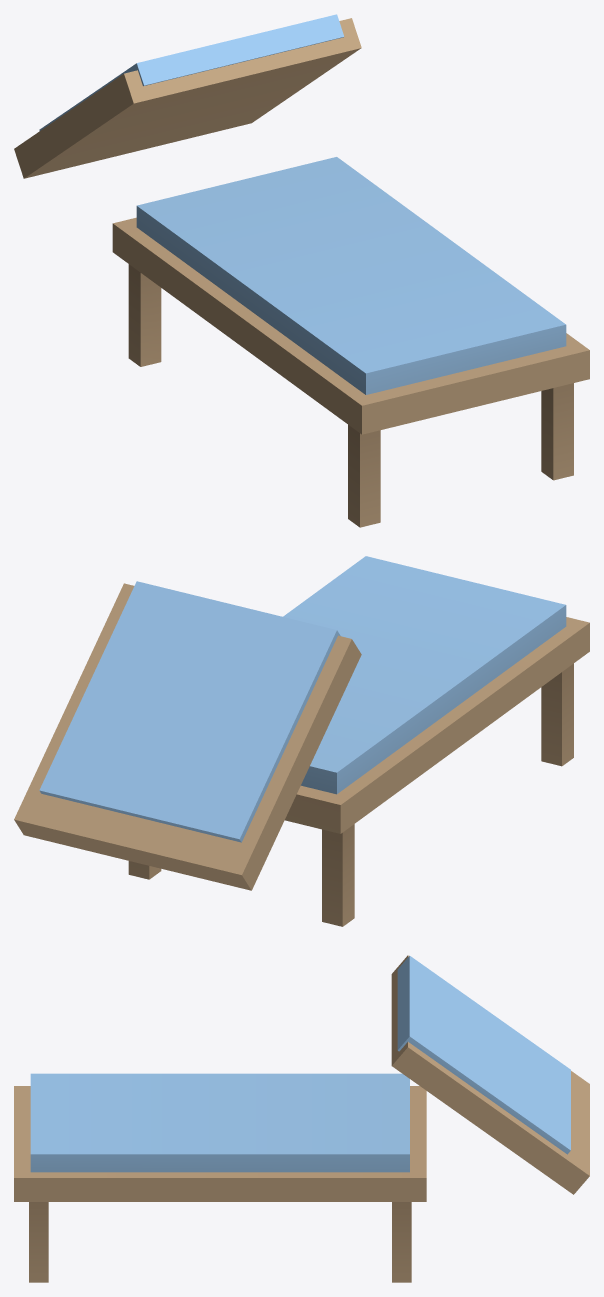
File: VSunbed.fbx
3 views of the same model, one above another, from view 1: azimuth 30°, elevation 25°; view 2: azimuth 150°, elevation 25°; view 3: azimuth 270°, elevation 25° (orthographic). The views are drawn at different scales.
Parts seen in each view (by area): view 1: VSunbed; view 2: VSunbed; view 3: VSunbed.
Boxes of the visible parts, box(x1,y1,x2,y2) form: VSunbed: box(14, 14, 589, 527); VSunbed: box(14, 556, 589, 926); VSunbed: box(14, 955, 589, 1282).
Size of the model in its own units: 0.66 by 0.8145 by 1.75.
